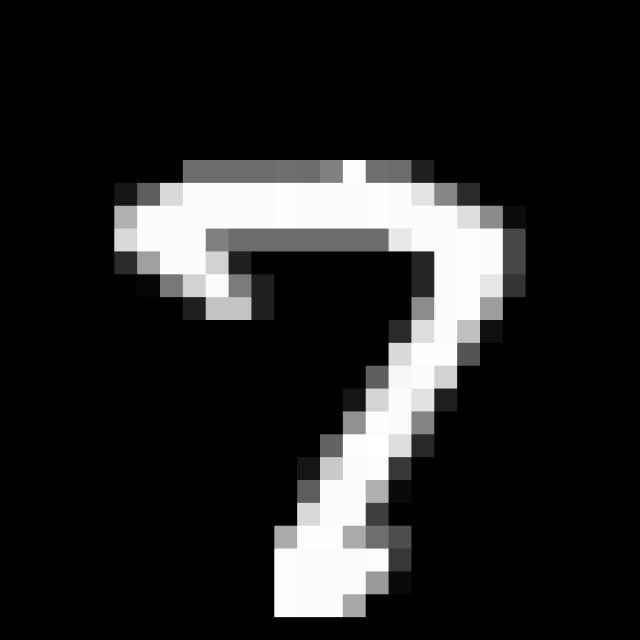seven -7-: (94, 148, 528, 626)
